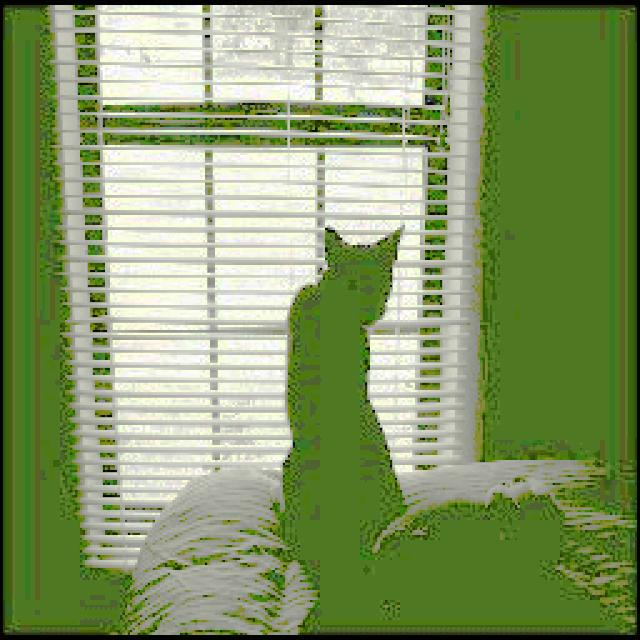cat: (243, 192, 422, 600)
